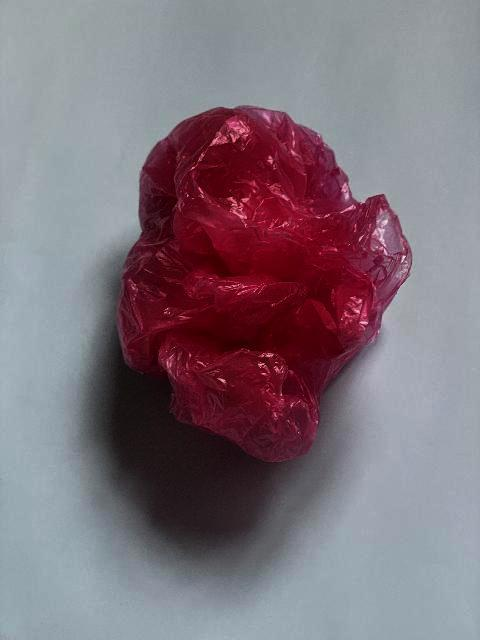plasticbag: (114, 103, 414, 464)
